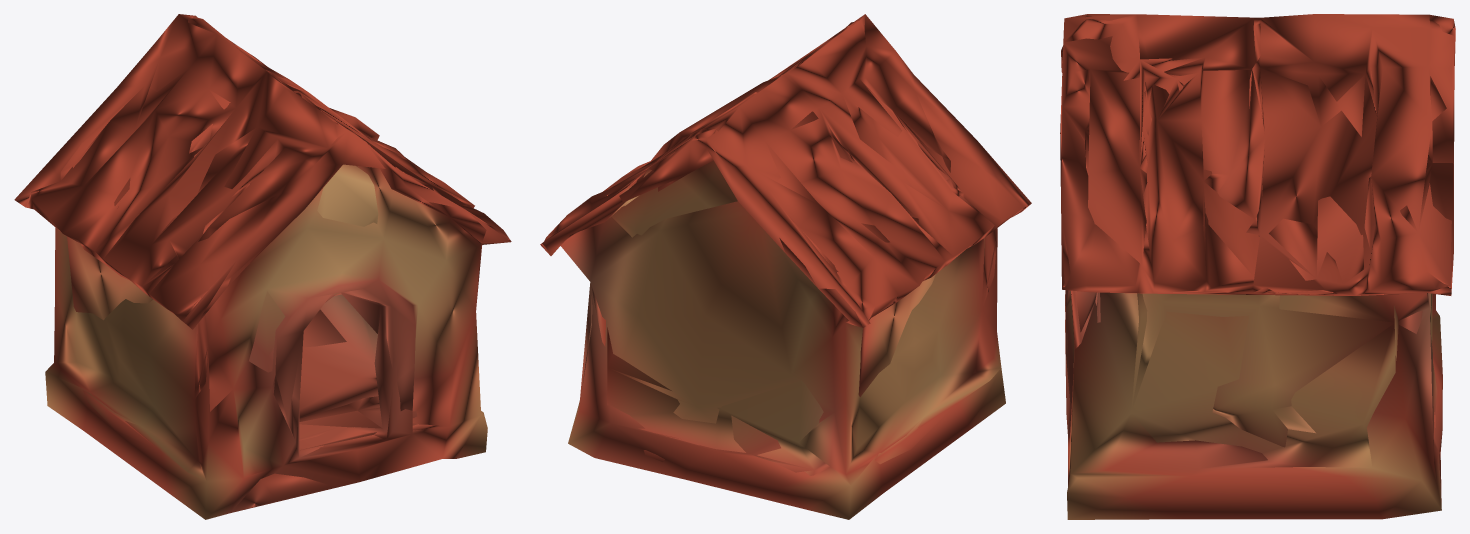
File: gen3d-doghouse-lod0.glb
3 renders of one model, left to right at view 1: azimuth 30°, elevation 25°; view 2: azimuth 150°, elevation 25°; view 3: azimuth 270°, elevation 25°, orthographic. The views are drawn at different scales.
Visible parts, largest first — view 1: part_0; view 2: part_0; view 3: part_0.
Boxes of the visible parts, box(x1,y1,x2,y2) form: part_0: box(14, 14, 511, 519); part_0: box(540, 14, 1031, 519); part_0: box(1060, 14, 1455, 519).
Bounding box in the file's own units: 0.9732 × 0.9958 × 0.8371.
